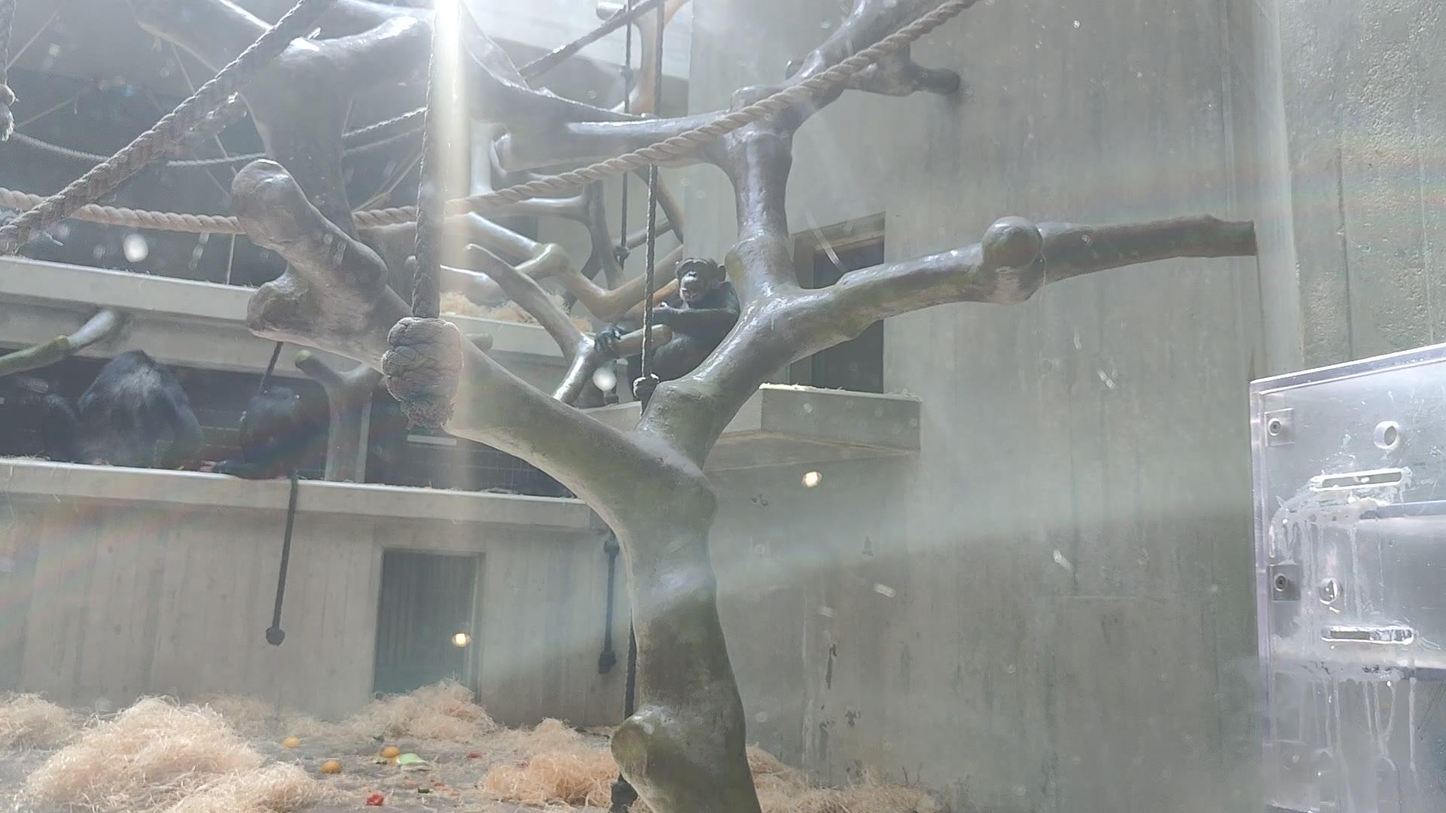boar: (594, 256, 740, 402), (41, 349, 205, 471), (210, 385, 320, 480)
